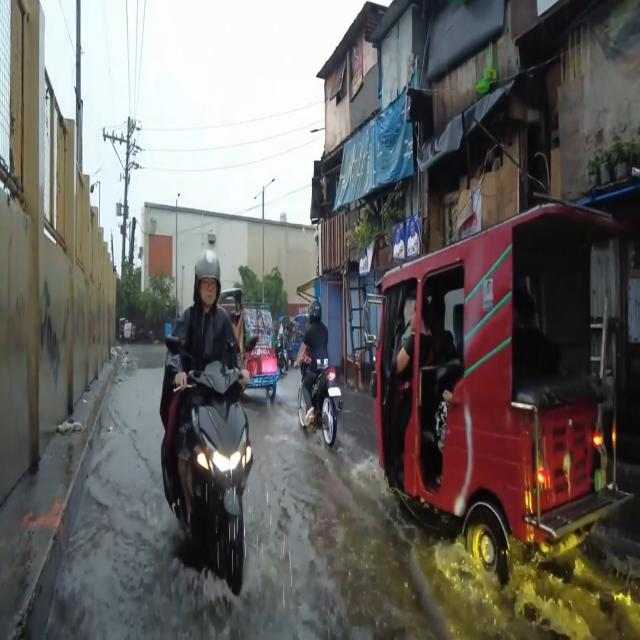full: (309, 301, 322, 323)
half: (194, 248, 222, 308)
